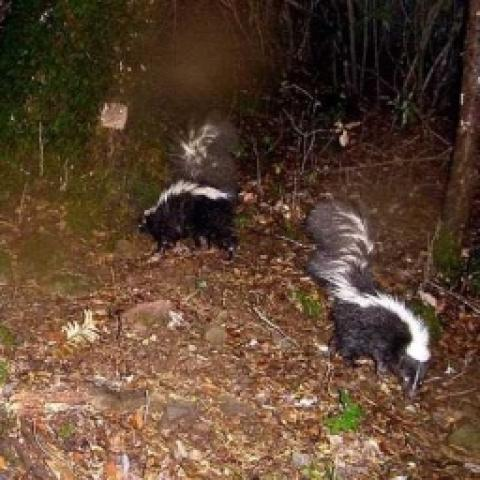small_animal: (302, 190, 442, 400), (135, 116, 244, 261)
